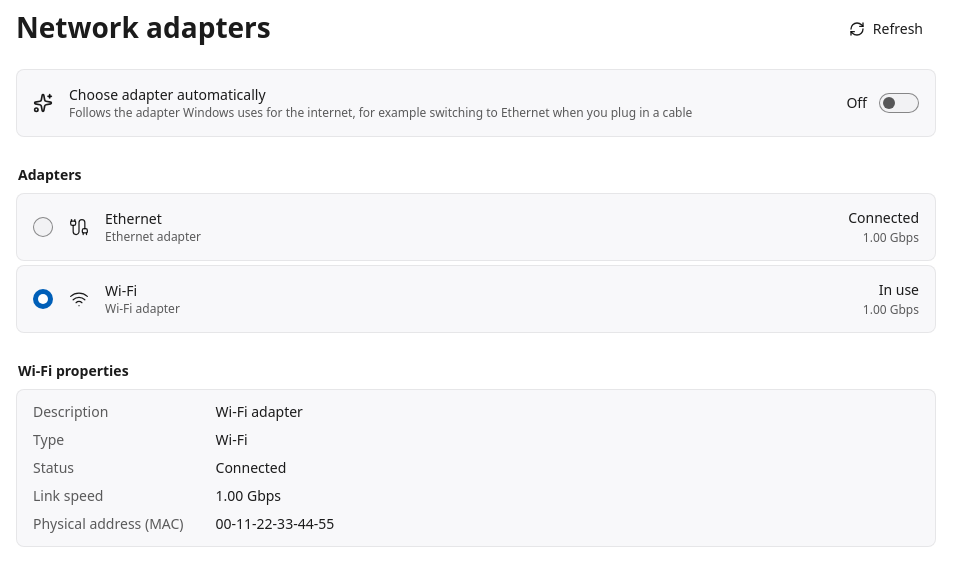
Test: InterfacesPage › turning automatic mode on hands the choice to the backend
Step 1. Click the switch named "Choose adapter automatically" → (881, 103), box [843,93,919,113]
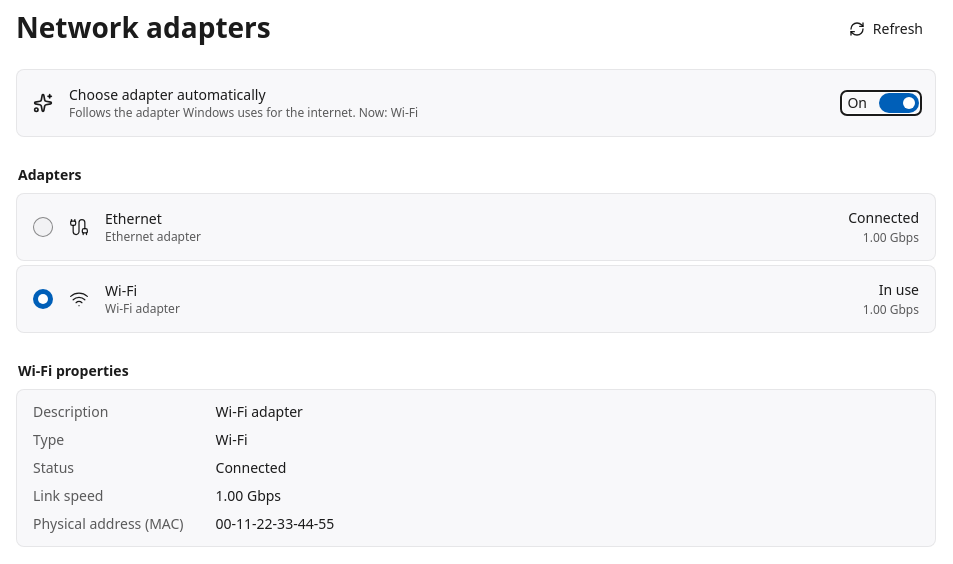
Expected: the switch named "Choose adapter automatically" is checked, [843,93,919,113]
